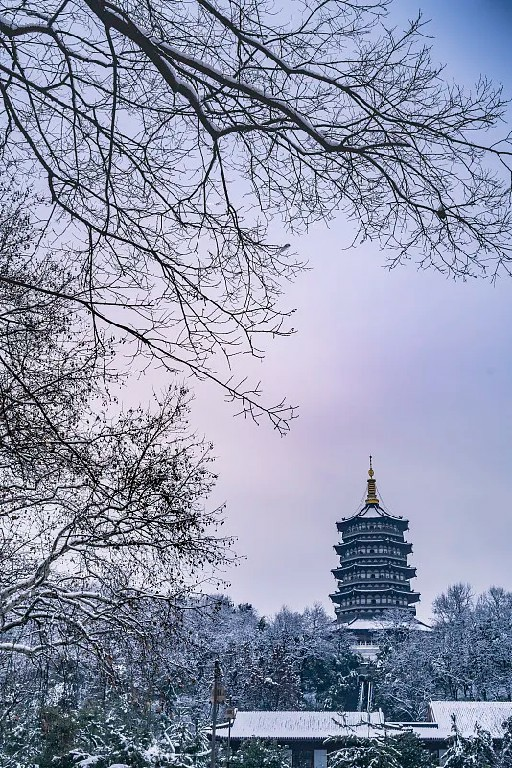Leifeng: (322, 450, 434, 653)
